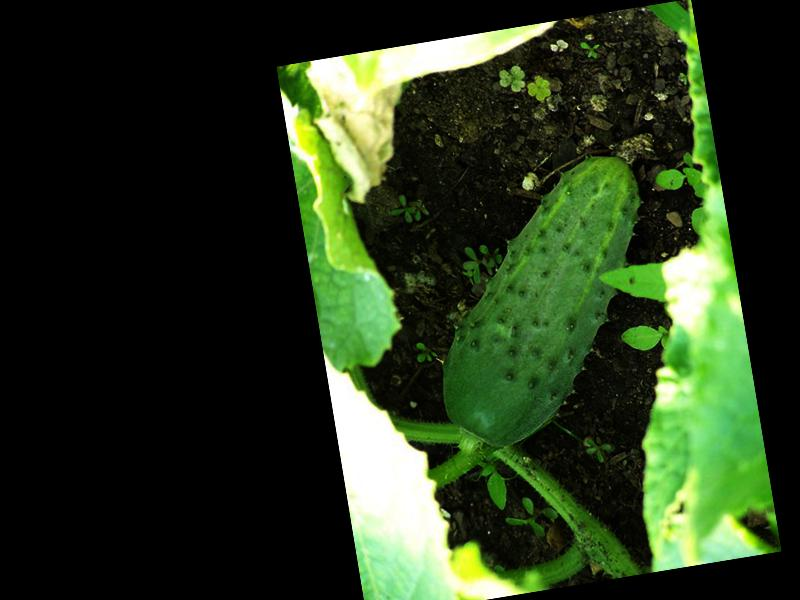Cucumber: (407, 150, 676, 457)
